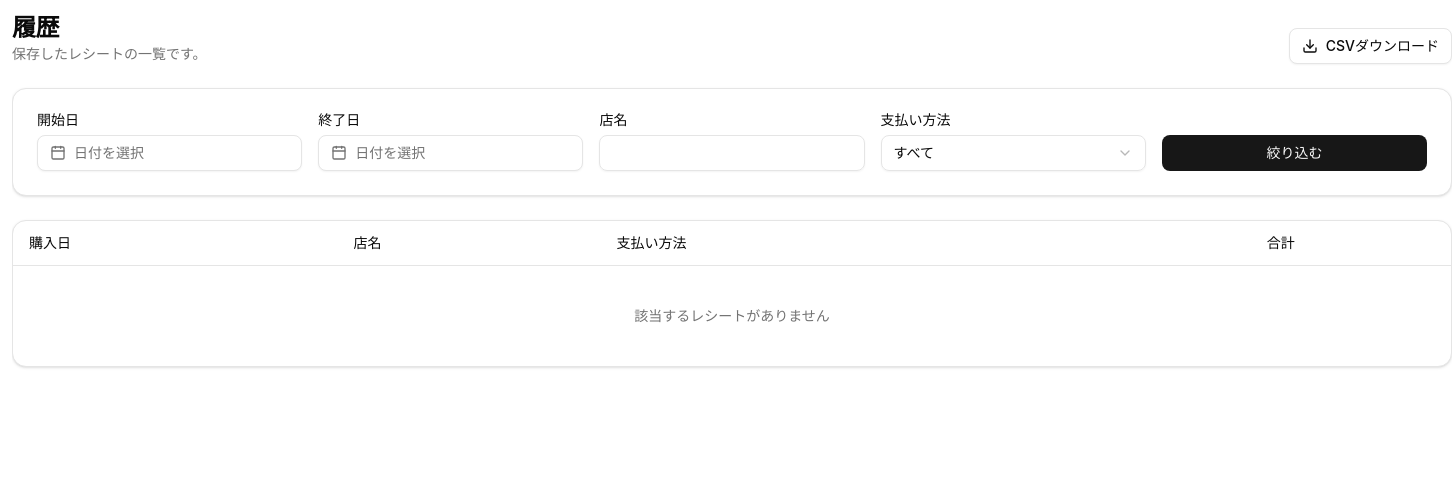
Test: HistoryPage › shows an error message when fetching receipts fails on filter
This screenshot has width=1452, height=477.
Click the button "絞り込む" at x=1294, y=153, box x1=1162 y1=135 x2=1427 y2=171
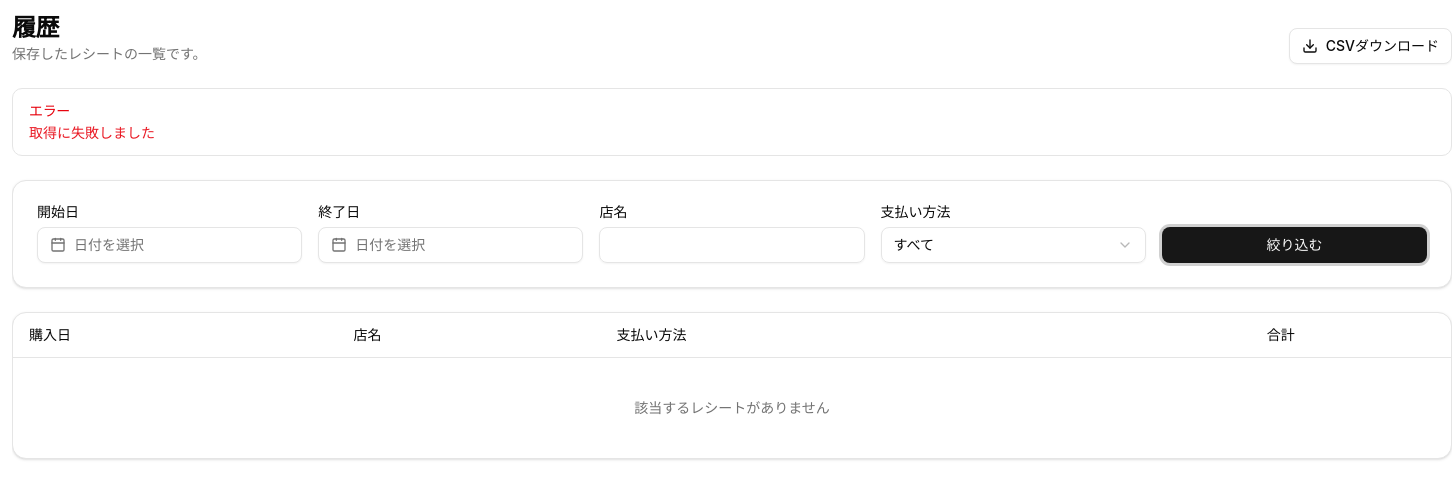
Expected: the message shows "取得に失敗しました", x1=29 y1=124 x2=155 y2=141
